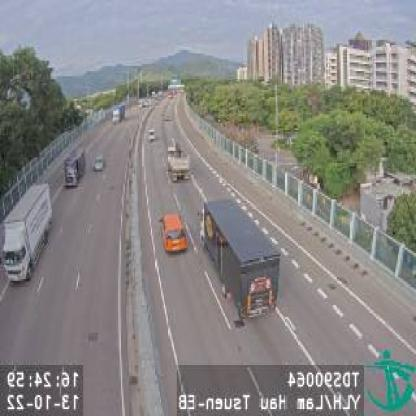Car: (161, 211, 187, 254), (94, 154, 105, 172), (147, 128, 158, 142)
Truck: (198, 199, 282, 317), (2, 182, 52, 286), (164, 140, 189, 183), (64, 152, 83, 188)
